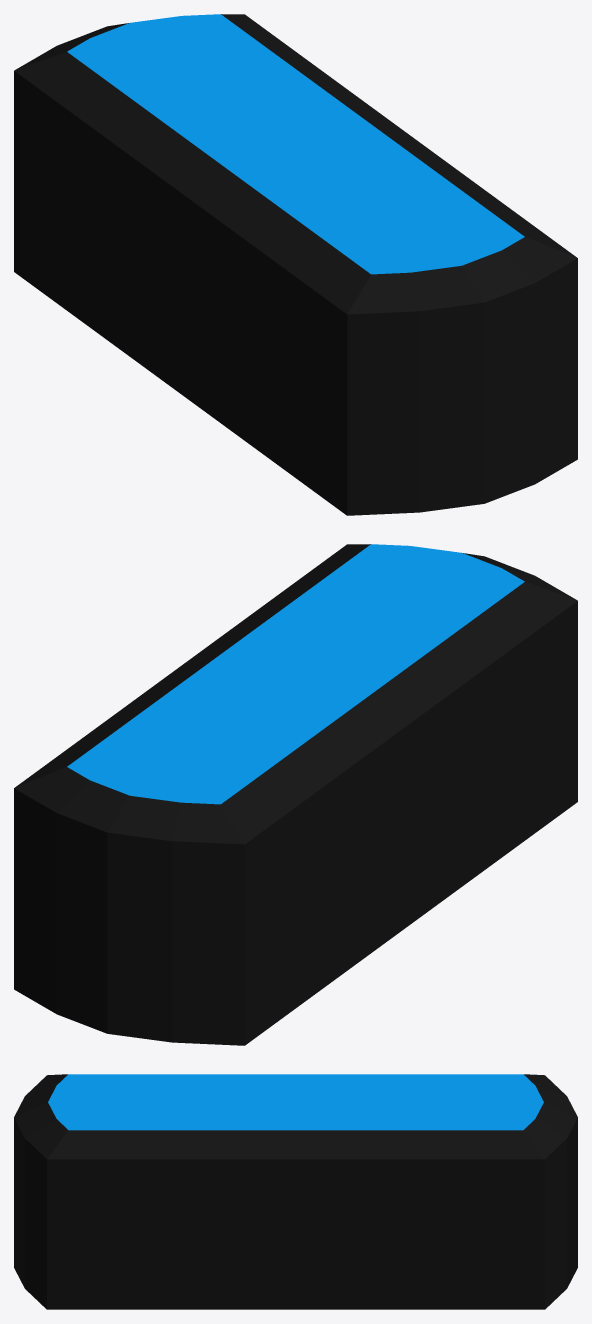
The model's file is Blocker.FBX.
3 views of the same model, one above another, from view 1: azimuth 30°, elevation 25°; view 2: azimuth 150°, elevation 25°; view 3: azimuth 270°, elevation 25° (orthographic). The views are drawn at different scales.
Parts seen in each view (by area): view 1: Plane005; view 2: Plane005; view 3: Plane005.
Part boxes in pixels (box(x1,y1,x2,y2)): Plane005: box(14, 14, 577, 515); Plane005: box(14, 544, 577, 1045); Plane005: box(14, 1074, 577, 1309).
Size of the model in its own units: 6 by 5.5 by 16.99.
